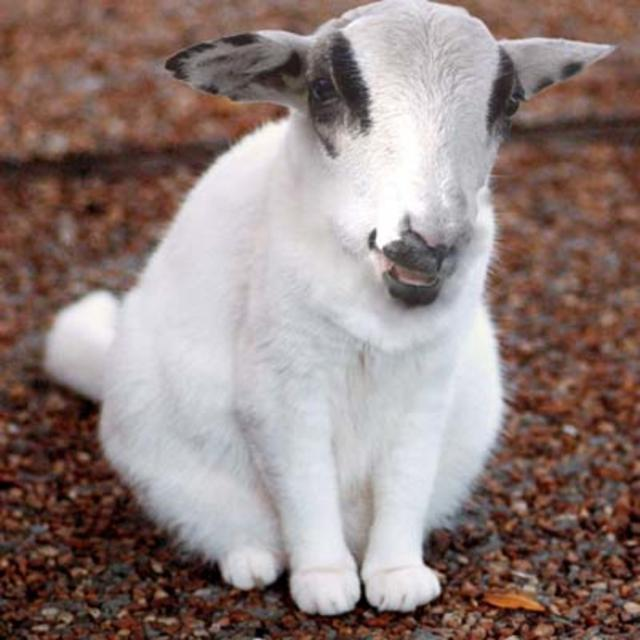Goat: (28, 0, 570, 626)
